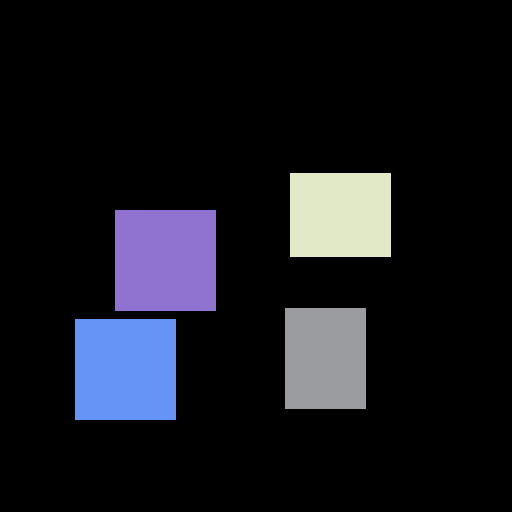rectangle: (290, 173, 390, 256), (285, 308, 365, 408)
square: (75, 319, 175, 419), (115, 210, 215, 310)
